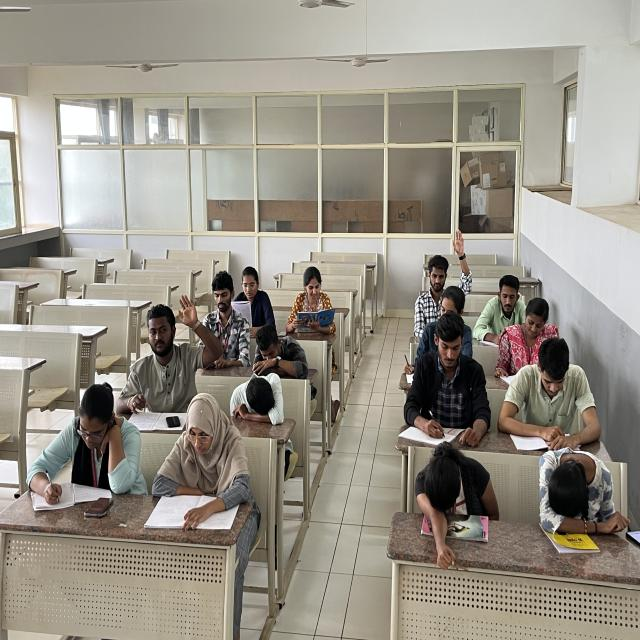Hand Rising: (124, 292, 217, 408), (414, 228, 474, 316)
Reading: (160, 399, 256, 530), (498, 335, 608, 447), (488, 301, 575, 386), (280, 264, 348, 334), (473, 273, 528, 347), (231, 266, 281, 330)
Sleeping: (367, 454, 496, 554), (522, 436, 617, 569), (249, 324, 316, 378), (225, 370, 288, 427)
Writing: (26, 384, 138, 514), (399, 318, 491, 446)
